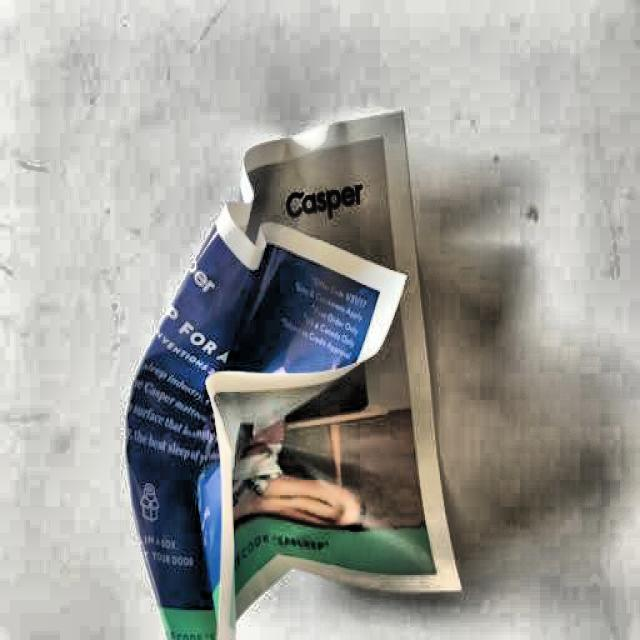paper: (120, 109, 473, 639)
